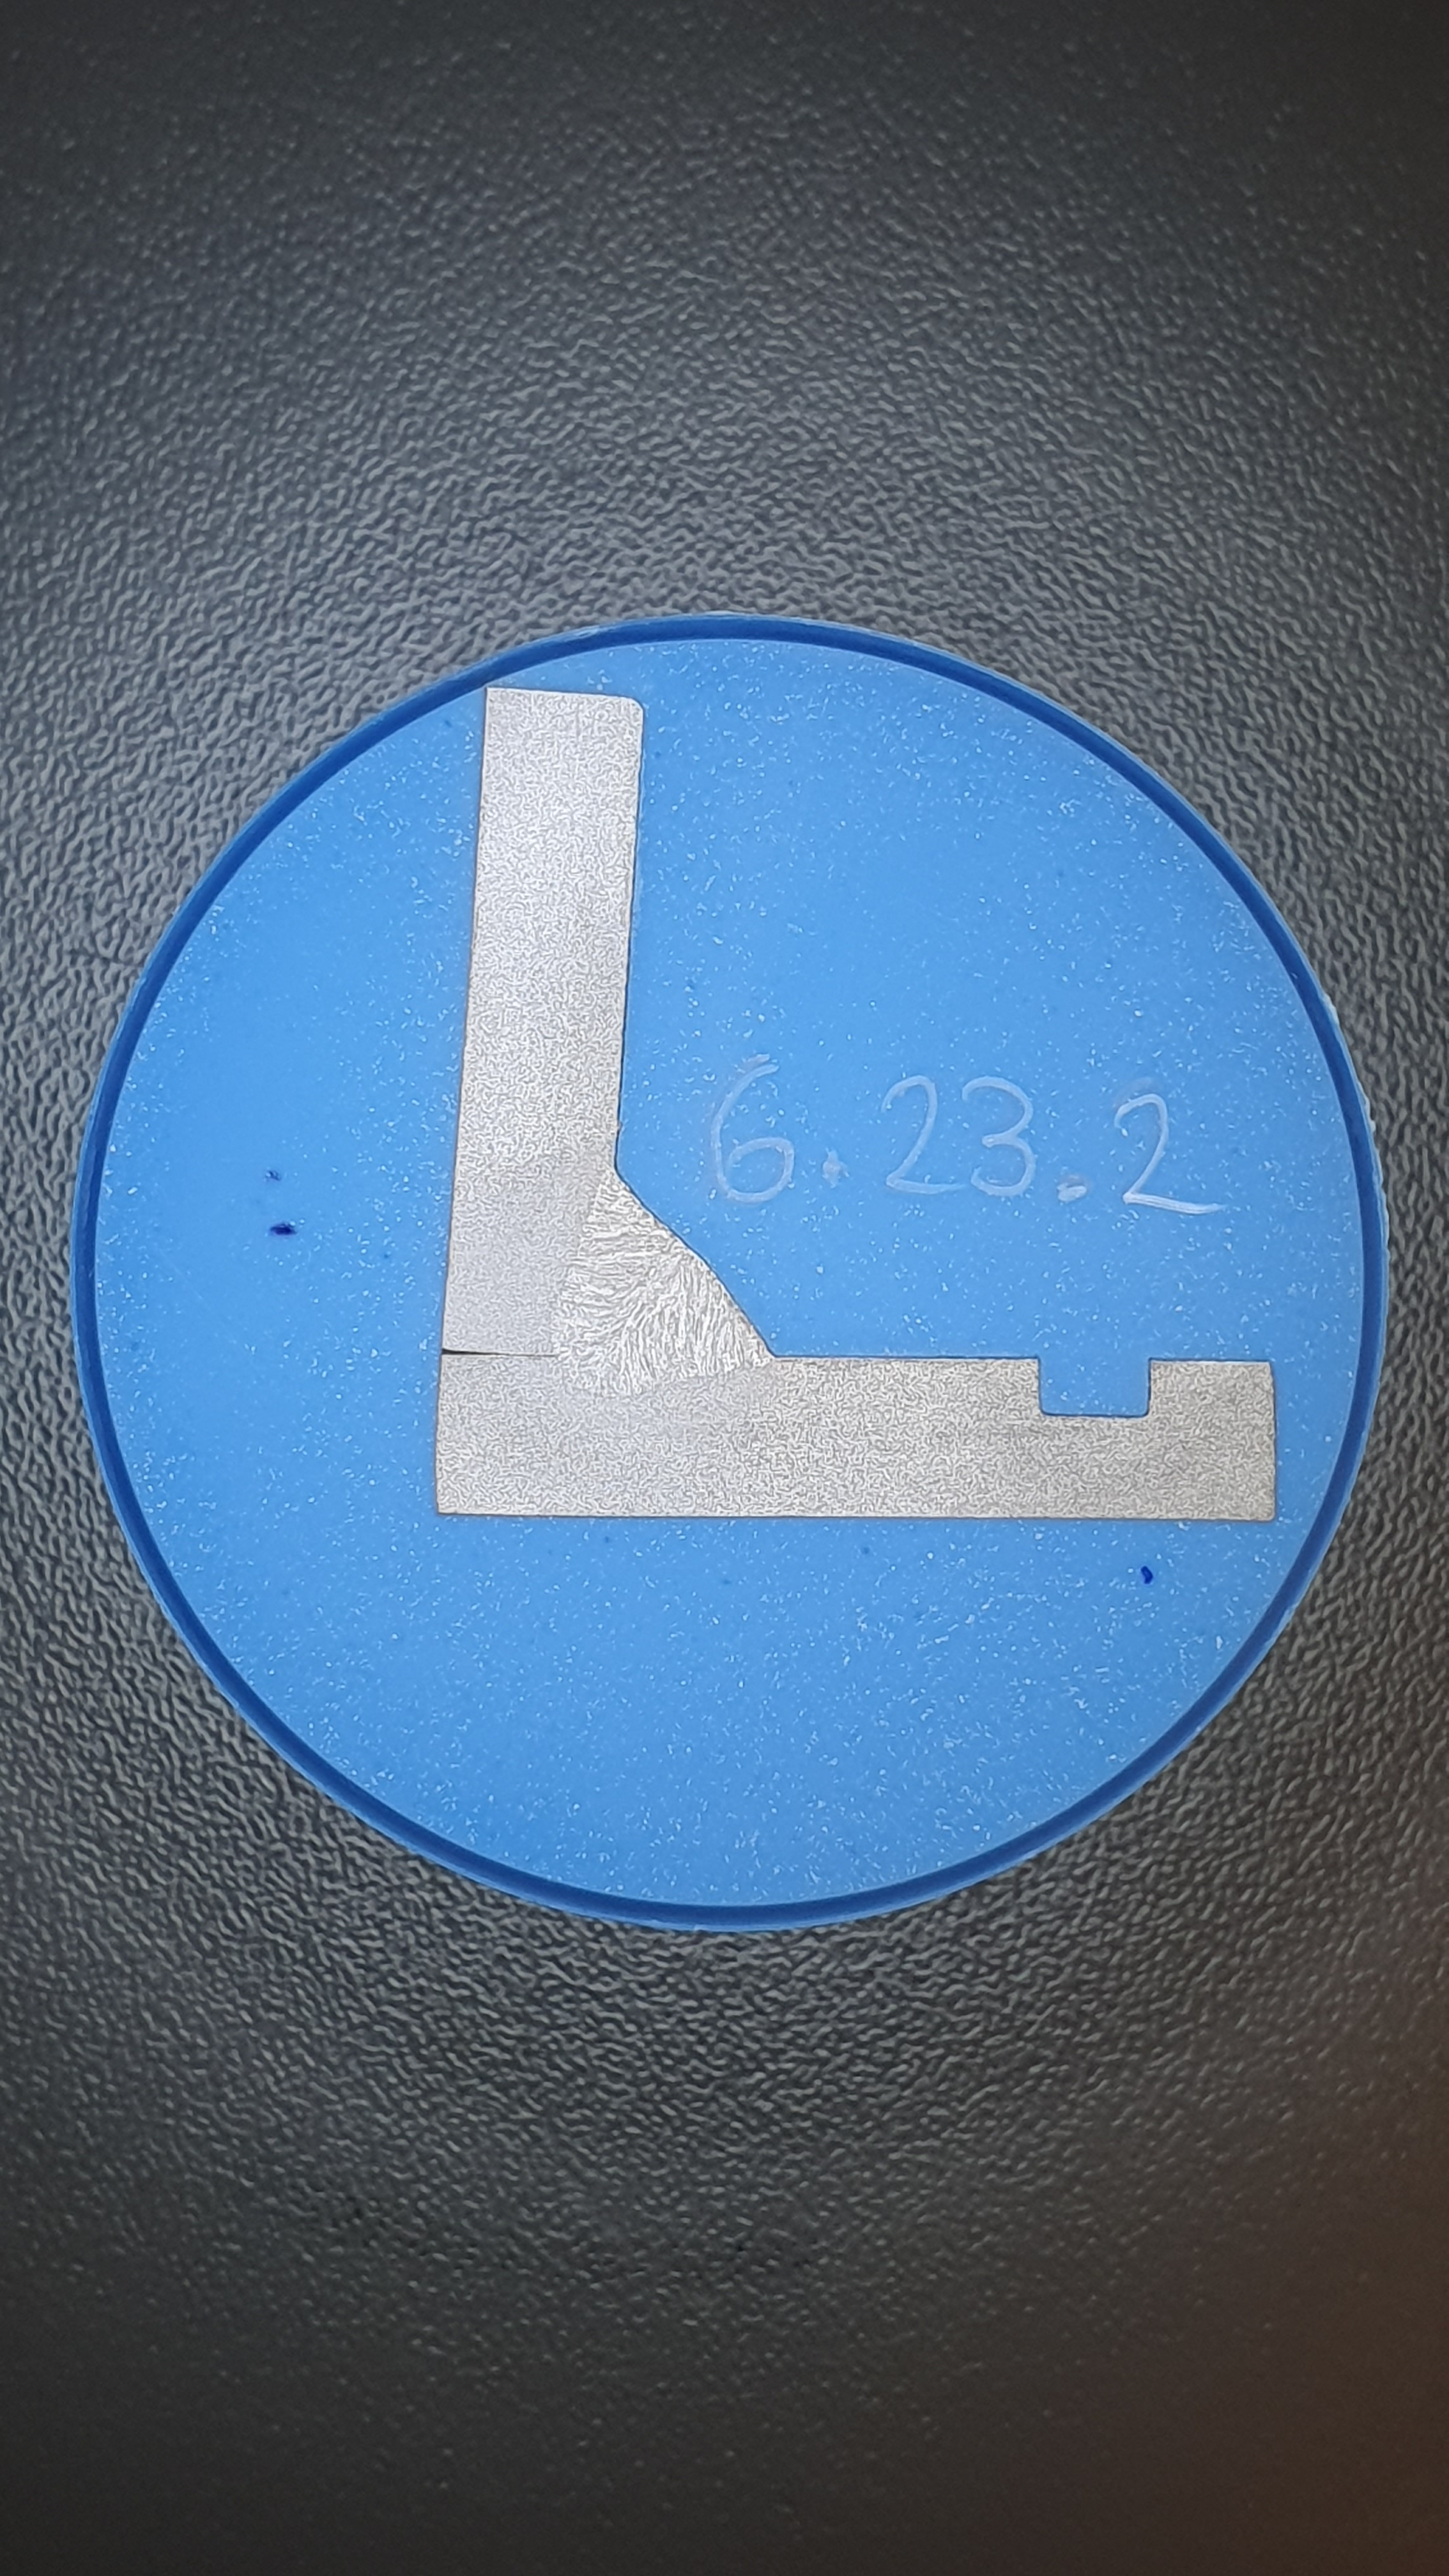Fusion: (548, 1168, 770, 1396)
Hintergrund: (96, 639, 1361, 1907)
Metall: (435, 686, 1276, 1522)
Nebenbereich: (494, 1131, 803, 1435)
